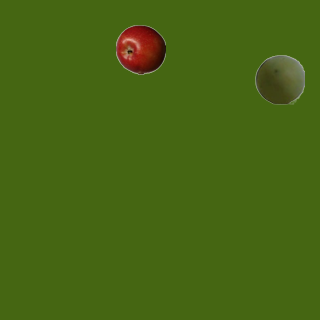Apple Braeburn: (115, 24, 165, 74)
Grape White 4: (254, 54, 304, 104)
